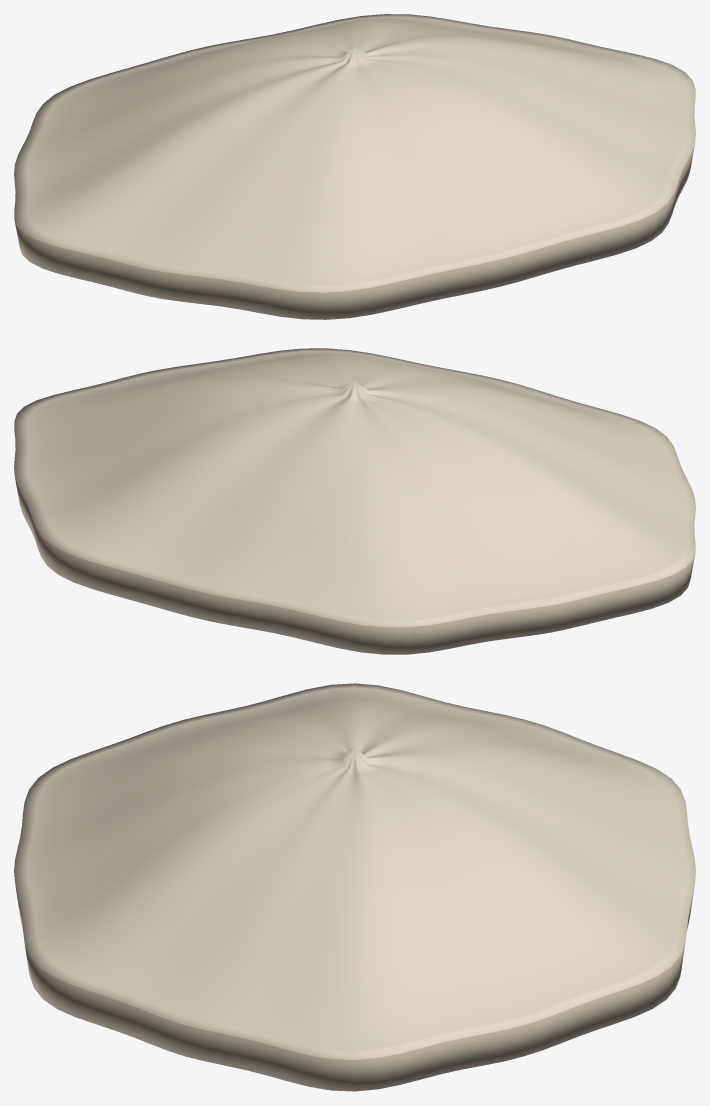
File: turtle-plastron.glb
The picture shows the model from 3 angles, top to bottom: view 1: azimuth 30°, elevation 25°; view 2: azimuth 150°, elevation 25°; view 3: azimuth 270°, elevation 25°; orthographic projection. The views are drawn at different scales.
Parts seen in each view (by area): view 1: TurtlePlastron; view 2: TurtlePlastron; view 3: TurtlePlastron.
Part boxes in pixels (<box>): TurtlePlastron: <box>14,14,695,319</box>; TurtlePlastron: <box>14,348,695,654</box>; TurtlePlastron: <box>14,683,695,1091</box>.
Bounding box in the file's own units: 1.3 × 0.2572 × 0.9934.
